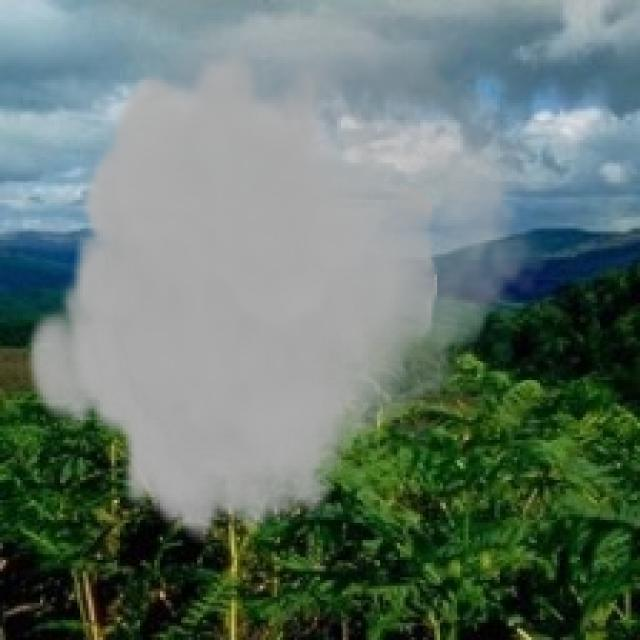Smoke: (22, 11, 552, 543)
